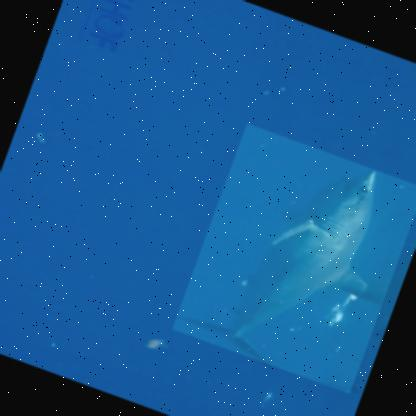mako-shark: (170, 121, 415, 394)
